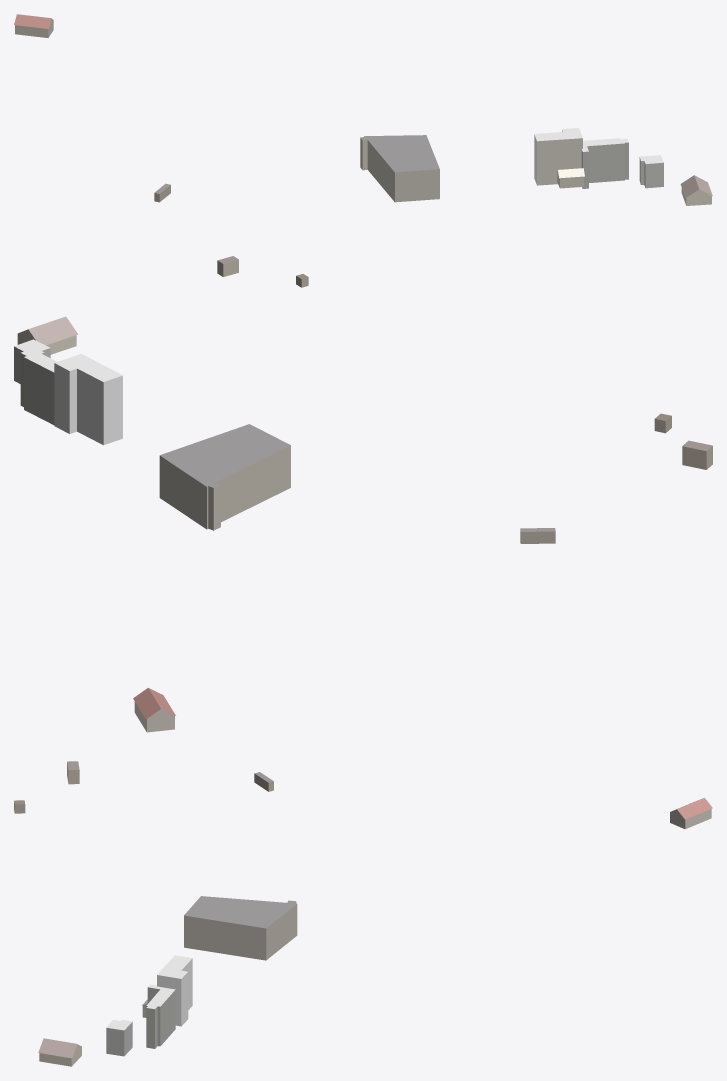
3 views of the same model, one above another, from view 1: azimuth 30°, elevation 25°; view 2: azimuth 150°, elevation 25°; view 3: azimuth 270°, elevation 25° (orthographic). The views are drawn at different scales.
Visible parts, largest first — view 1: tuile; view 2: tuile; view 3: tuile.
Boxes of the visible parts, box(x1,y1,x2,y2) form: tuile: box(14, 14, 712, 287); tuile: box(14, 316, 712, 732); tuile: box(14, 761, 712, 1066).
Bounding box in the file's own units: 222 × 26.51 × 257.
